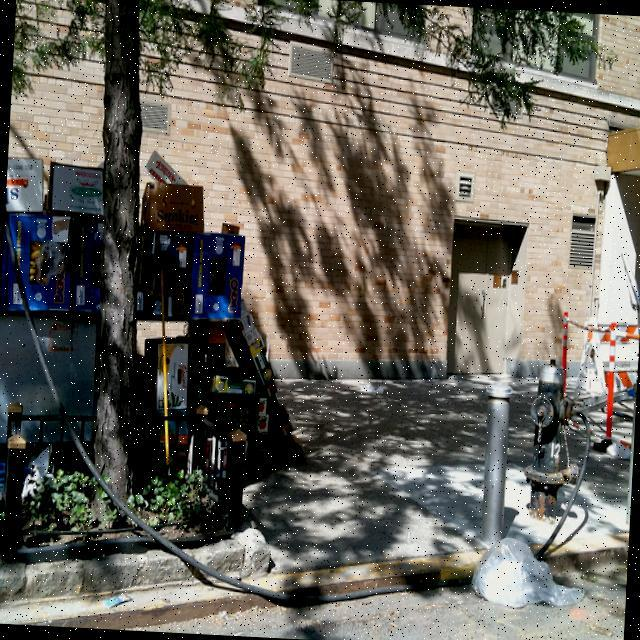fire_hydrant: (522, 356, 584, 524)
